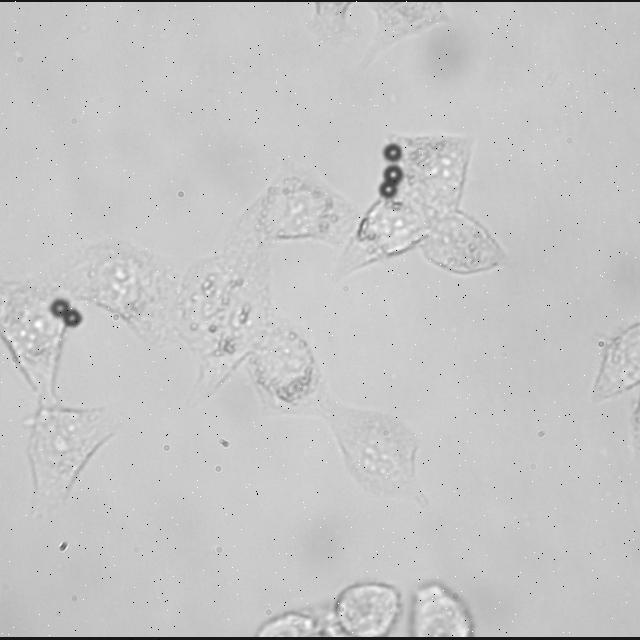microbeads: (58, 310, 84, 332), (382, 142, 404, 164), (382, 165, 402, 189), (377, 180, 398, 200)
